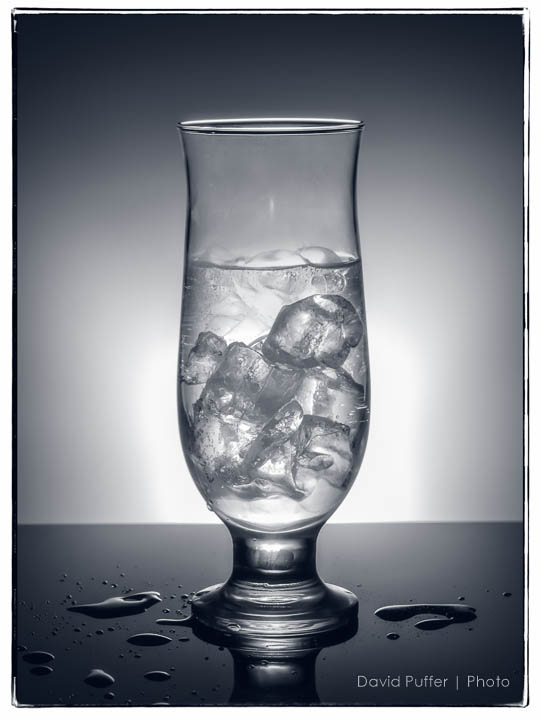glass of water: (172, 110, 374, 656)
